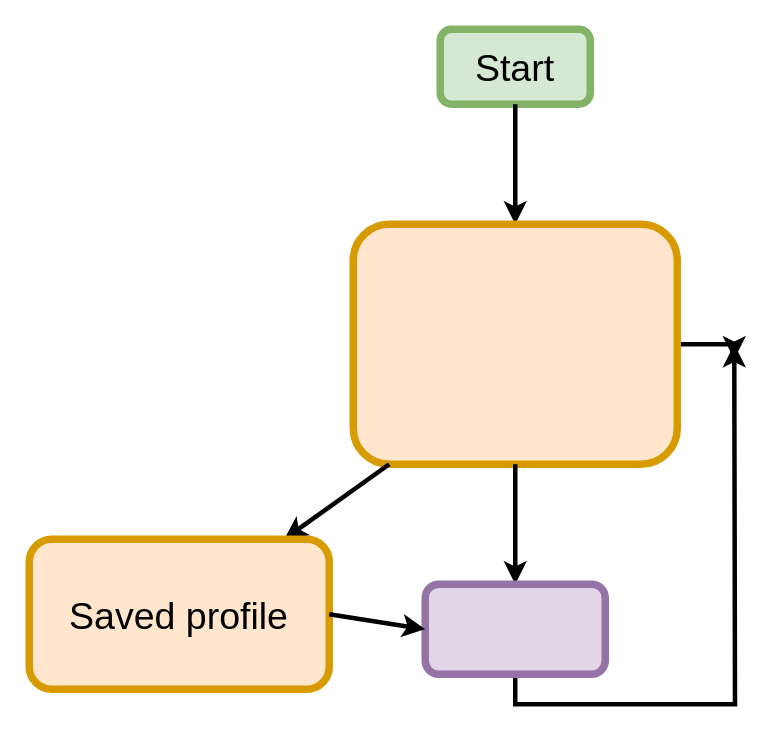
Some shapes in this 776 by 744 pixel diagram are drawn without their labels. The box of each missing label's shape, as (x1, y1, x2, y2) in pixels:
Asking parametrs to be included in generated password: (349, 220, 680, 467)
Generating password: (421, 580, 608, 677)
